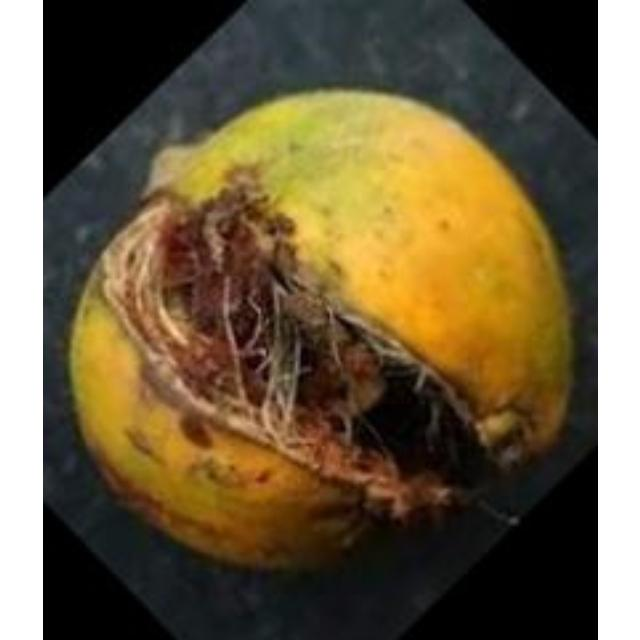damaged: (71, 93, 568, 563)
